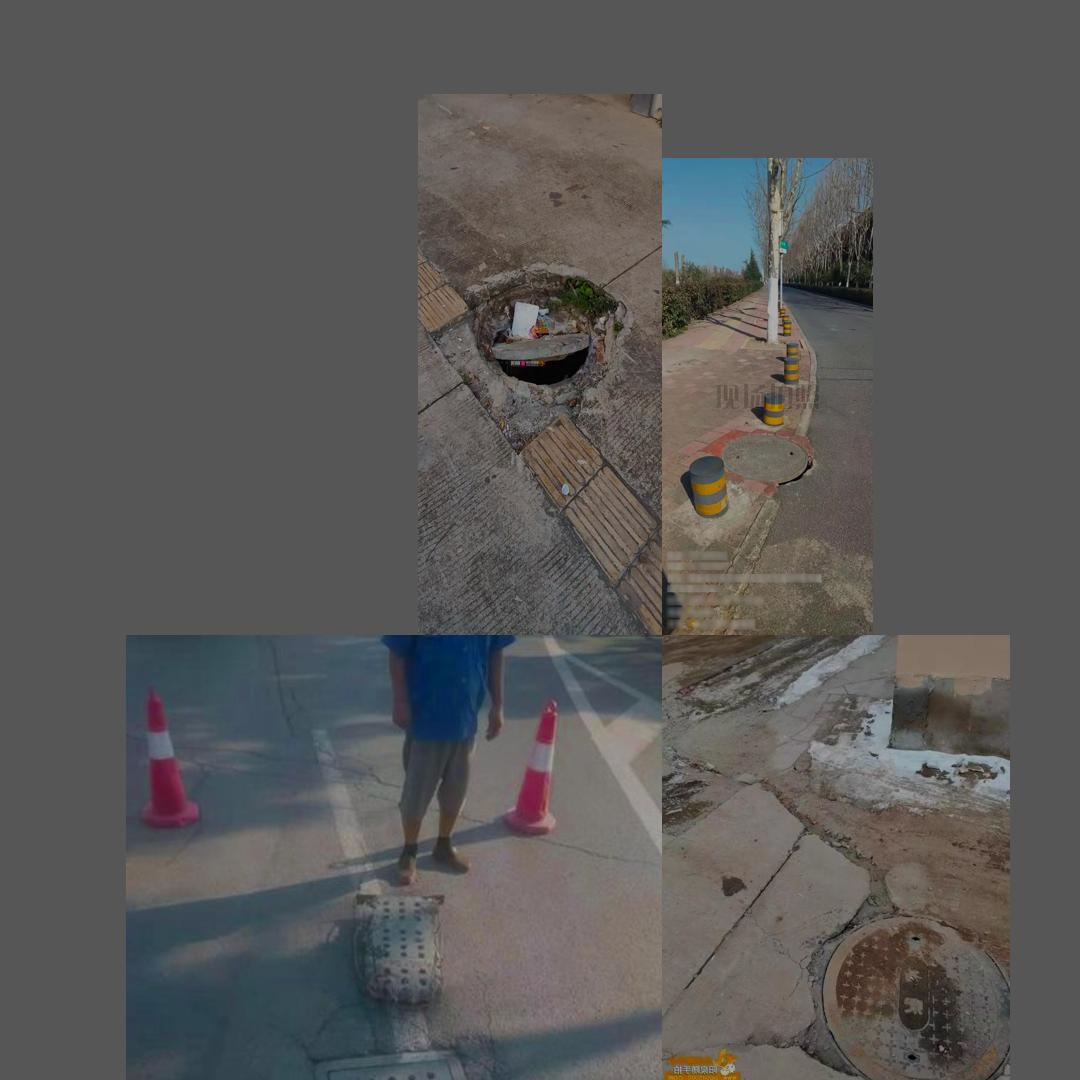circle: (761, 901, 1005, 1080), (440, 258, 640, 441), (247, 1017, 591, 1080), (719, 430, 815, 489)
